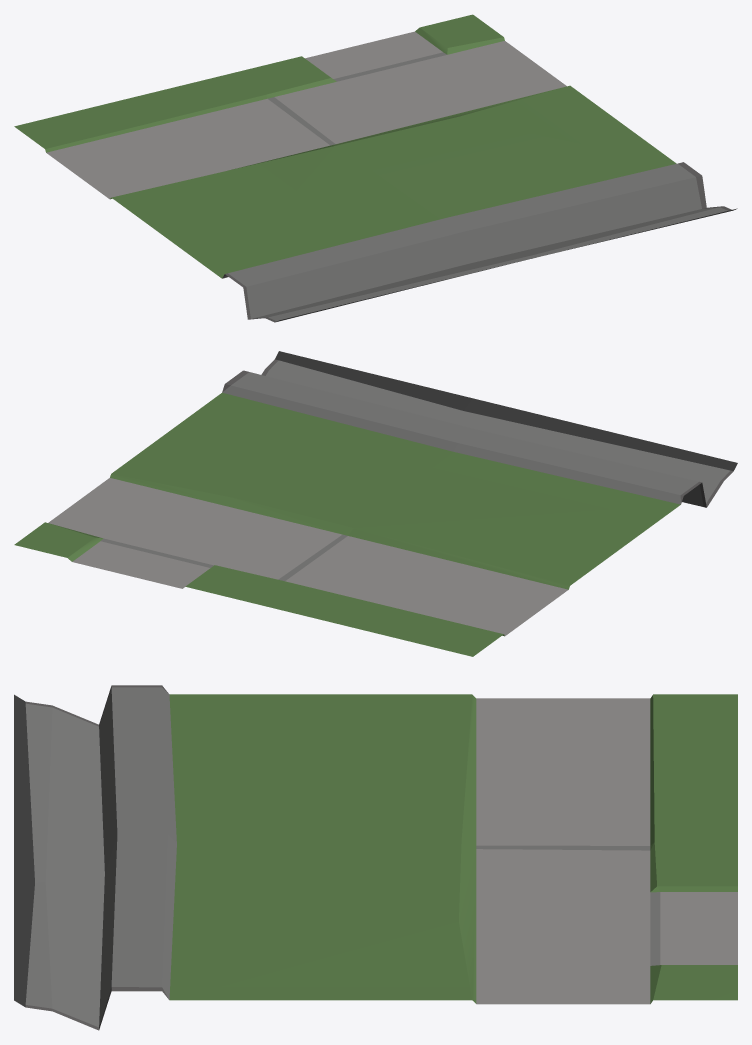
The model's file is SM_Env_Sidewalk_Straight_Path_01.fbx.
3 views of the same model, one above another, from view 1: azimuth 30°, elevation 25°; view 2: azimuth 150°, elevation 25°; view 3: azimuth 270°, elevation 25° (orthographic). The views are drawn at different scales.
Parts seen in each view (by area): view 1: SM_Env_Sidewalk_Straight_Path_01; view 2: SM_Env_Sidewalk_Straight_Path_01; view 3: SM_Env_Sidewalk_Straight_Path_01.
Part boxes in pixels (<box>): SM_Env_Sidewalk_Straight_Path_01: <box>14,14,737,322</box>; SM_Env_Sidewalk_Straight_Path_01: <box>14,351,737,656</box>; SM_Env_Sidewalk_Straight_Path_01: <box>14,685,737,1030</box>.
Bounding box in the file's own units: 500 × 30 × 500.
